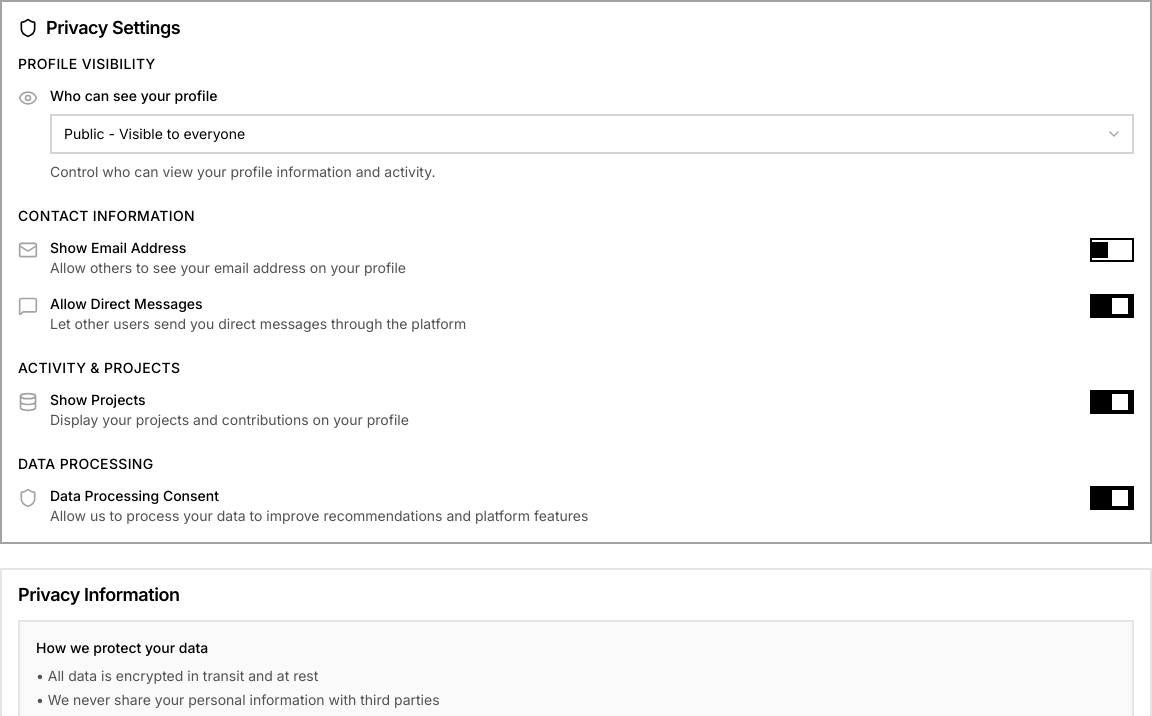
PrivacySettings › allows changing profile visibility
Select "Private - Only visible to you" in the dropdown showing "Public - Visible to everyone" at {"x": 592, "y": 134}, box [50,114,1134,154]
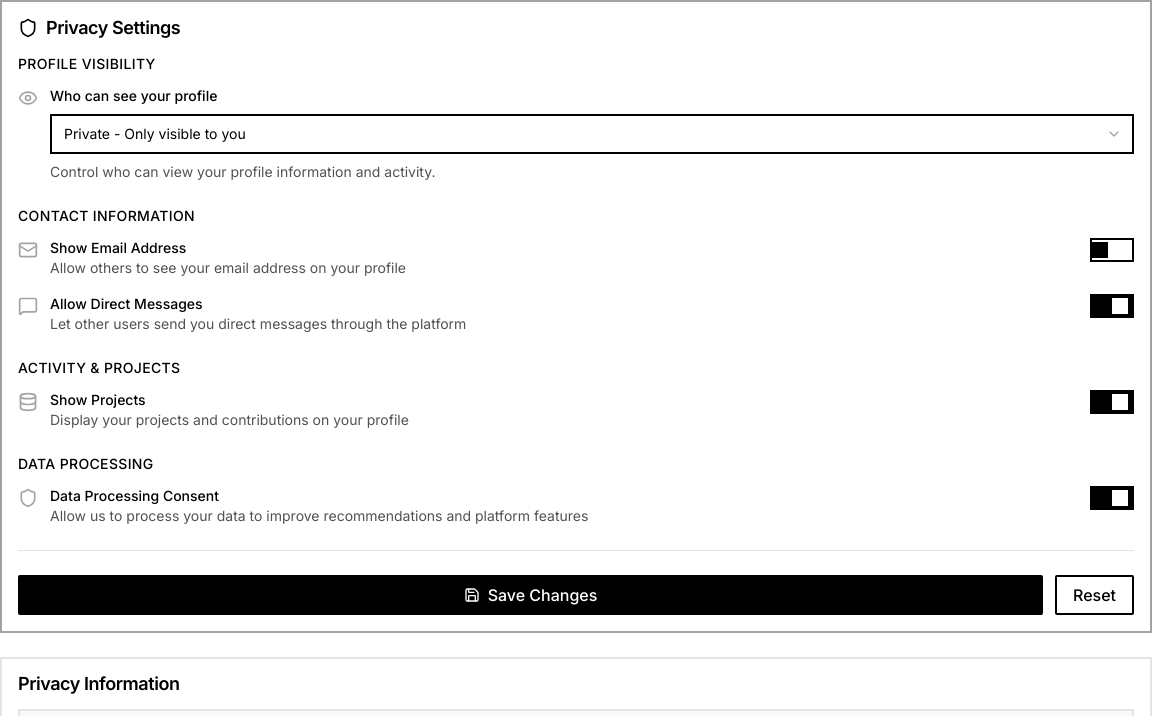
Expected: the button "Save Changes" is shown, [18,575,1043,615]
